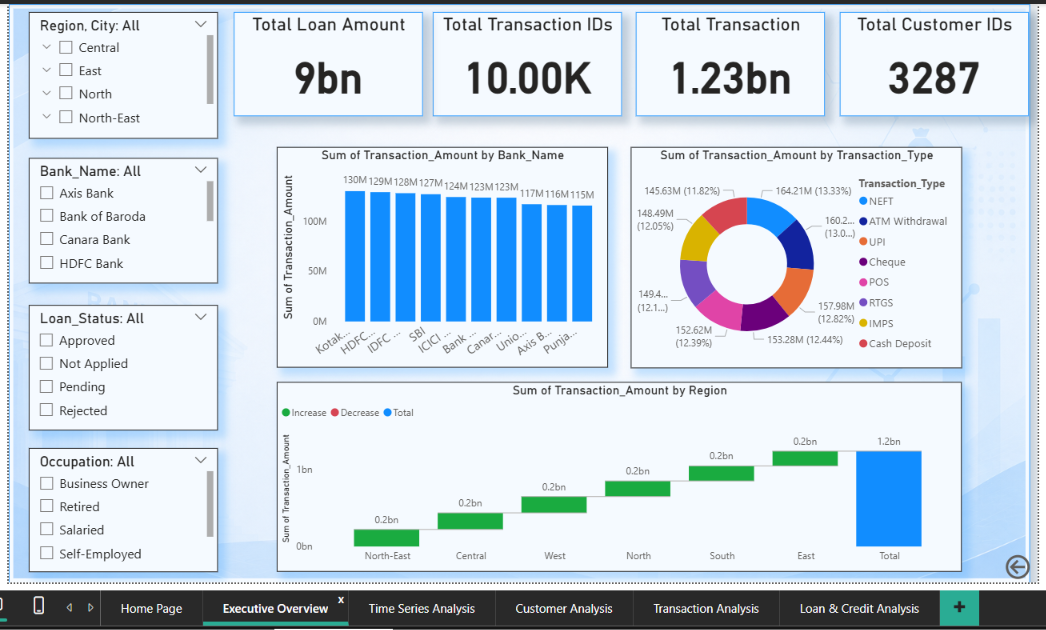

This screenshot's page, from the dashboard's own definition file:
{"tool":"powerbi","page":{"name":"Executive Overview","canvas":[1280,720],"ordinal":1},"visuals":[{"type":"image","box":[9.6,0,1270.7,720.4],"z":0},{"type":"card","title":"Total Customer IDs","fields":{"Values":["Count(Clean And Analyse Indian bankin.Customer_ID)"]},"box":[1034,10.3,235,129.4],"z":1000},{"type":"card","title":"Total Transaction","fields":{"Values":["Sum(Clean And Analyse Indian bankin.Transaction_Amount)"]},"box":[780.5,10.3,235.2,129.4],"z":2000},{"type":"card","title":"Total Transaction IDs","fields":{"Values":["CountNonNull(Clean And Analyse Indian bankin.Transaction_ID)"]},"box":[527.7,10.3,235.2,129.4],"z":3000},{"type":"card","title":"Total Loan Amount","fields":{"Values":["Sum(Clean And Analyse Indian bankin.Loan_Amount)"]},"box":[279.3,10.3,235.2,129.4],"z":4000},{"type":"slicer","fields":{"Values":["Clean And Analyse Indian bankin.City"]},"box":[25,10.3,235.2,157.3],"z":5000},{"type":"slicer","fields":{"Values":["Clean And Analyse Indian bankin.Bank_Name"]},"box":[25,191.1,235.2,155.8],"z":6000},{"type":"slicer","fields":{"Values":["Clean And Analyse Indian bankin.Loan_Status"]},"box":[25,374.8,235.2,155.8],"z":7000},{"type":"slicer","fields":{"Values":["Clean And Analyse Indian bankin.Occupation"]},"box":[25,552.7,235.2,154.3],"z":8000},{"type":"donutChart","fields":{"Y":["Sum(Clean And Analyse Indian bankin.Transaction_Amount)"],"Category":["Clean And Analyse Indian bankin.Transaction_Type"]},"box":[780.5,177.9,370.4,274.9],"z":8001},{"type":"columnChart","fields":{"Category":["Clean And Analyse Indian bankin.Bank_Name"],"Y":["Sum(Clean And Analyse Indian bankin.Transaction_Amount)"]},"box":[396.9,177.9,348.4,274.9],"z":8002},{"type":"lineChart","fields":{"Category":["Clean And Analyse Indian bankin.Transaction_Date.Variation.Date Hierarchy.Month"],"Y":["Sum(Clean And Analyse Indian bankin.Transaction_Amount)"]},"box":[396.9,470.4,754.1,236.7],"z":8003}]}

Visuals, with their boxes on the page's 1280x720 design canvas (x1, y1, x2, y2). These are canvas units, not pixel positions in the 1046x630 screenshot, which may show the page scaled, cropped or inside an application window:
image: left=10, top=0, right=1280, bottom=720
"Total Customer IDs" card: left=1034, top=10, right=1269, bottom=140
"Total Transaction" card: left=780, top=10, right=1016, bottom=140
"Total Transaction IDs" card: left=528, top=10, right=763, bottom=140
"Total Loan Amount" card: left=279, top=10, right=514, bottom=140
slicer - Clean And Analyse Indian bankin.City: left=25, top=10, right=260, bottom=168
slicer - Clean And Analyse Indian bankin.Bank_Name: left=25, top=191, right=260, bottom=347
slicer - Clean And Analyse Indian bankin.Loan_Status: left=25, top=375, right=260, bottom=531
slicer - Clean And Analyse Indian bankin.Occupation: left=25, top=553, right=260, bottom=707
donutChart - Sum(Clean And Analyse Indian bankin.Transaction_Amount) x Clean And Analyse Indian bankin.Transaction_Type: left=780, top=178, right=1151, bottom=453
columnChart - Clean And Analyse Indian bankin.Bank_Name x Sum(Clean And Analyse Indian bankin.Transaction_Amount): left=397, top=178, right=745, bottom=453
lineChart - Clean And Analyse Indian bankin.Transaction_Date.Variation.Date Hierarchy.Month x Sum(Clean And Analyse Indian bankin.Transaction_Amount): left=397, top=470, right=1151, bottom=707
